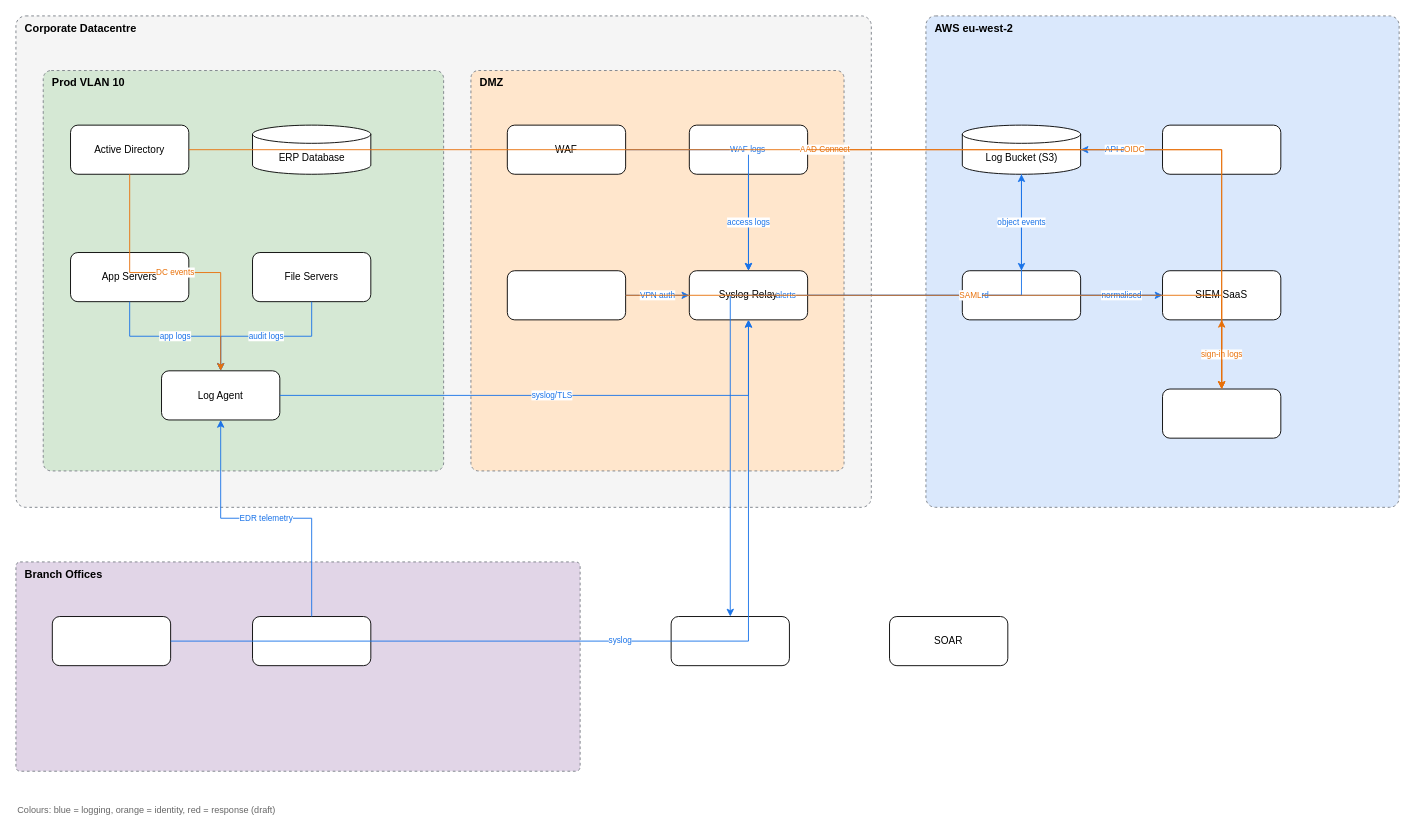
Some shapes in this 1415 by 833 pixel diagram are drawn without their labels. Each missing label, with the centre of its shape:
"Branch Endpoints" goes at point (311, 641).
"Branch Firewalls" goes at point (111, 641).
"Cloud IdP" goes at point (1221, 413).
"CloudTrail" goes at point (1221, 149).
"Parser (Lambda)" goes at point (1021, 295).
"Reverse Proxy" goes at point (748, 149).
"SOC Console" goes at point (729, 641).
"VPN Gateway" goes at point (566, 295).
